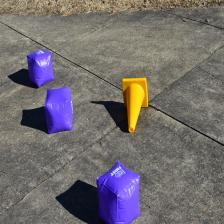cone: (122, 78, 148, 133)
cube: (96, 160, 140, 224), (45, 86, 73, 134), (26, 50, 54, 88)
